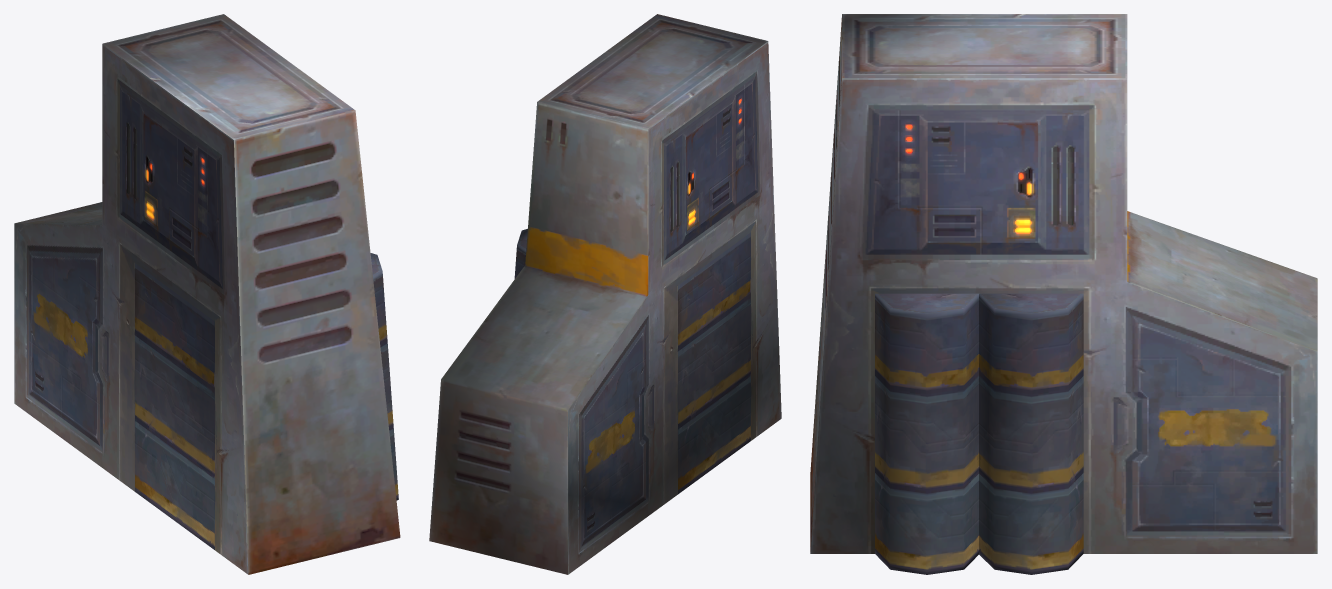
The model's file is all_arch_und_house_boxthing.glb.
3 renders of one model, left to right at view 1: azimuth 30°, elevation 25°; view 2: azimuth 150°, elevation 25°; view 3: azimuth 270°, elevation 25°, orthographic. The views are drawn at different scales.
Visible parts, largest first — view 1: all_arch_und_house_boxthing; view 2: all_arch_und_house_boxthing; view 3: all_arch_und_house_boxthing.
Boxes of the visible parts, <box> form: all_arch_und_house_boxthing: <box>14,14,400,574</box>; all_arch_und_house_boxthing: <box>429,14,781,574</box>; all_arch_und_house_boxthing: <box>810,14,1317,574</box>.
Bounding box in the file's own units: 0.1963 × 0.3997 × 0.3997.
Materials: 1 (1 with a texture image).
